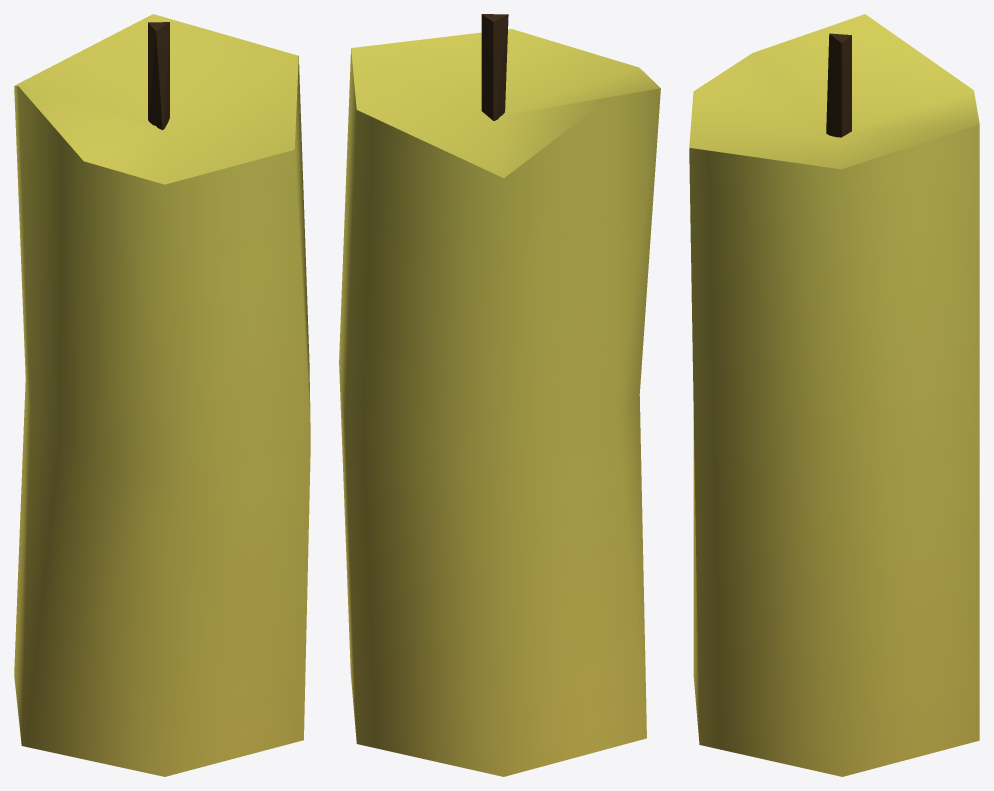
File: Candle.fbx
3 renders of one model, left to right at view 1: azimuth 30°, elevation 25°; view 2: azimuth 150°, elevation 25°; view 3: azimuth 270°, elevation 25°, orthographic. The views are drawn at different scales.
Parts seen in each view (by area): view 1: Candle; view 2: Candle; view 3: Candle.
Boxes of the visible parts, box(x1,y1,x2,y2) form: Candle: box(14, 14, 310, 776); Candle: box(339, 14, 660, 776); Candle: box(689, 14, 979, 776).
Size of the model in its own units: 22.67 by 49.88 by 19.55.
